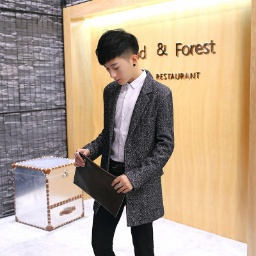face: (97, 30, 141, 86)
